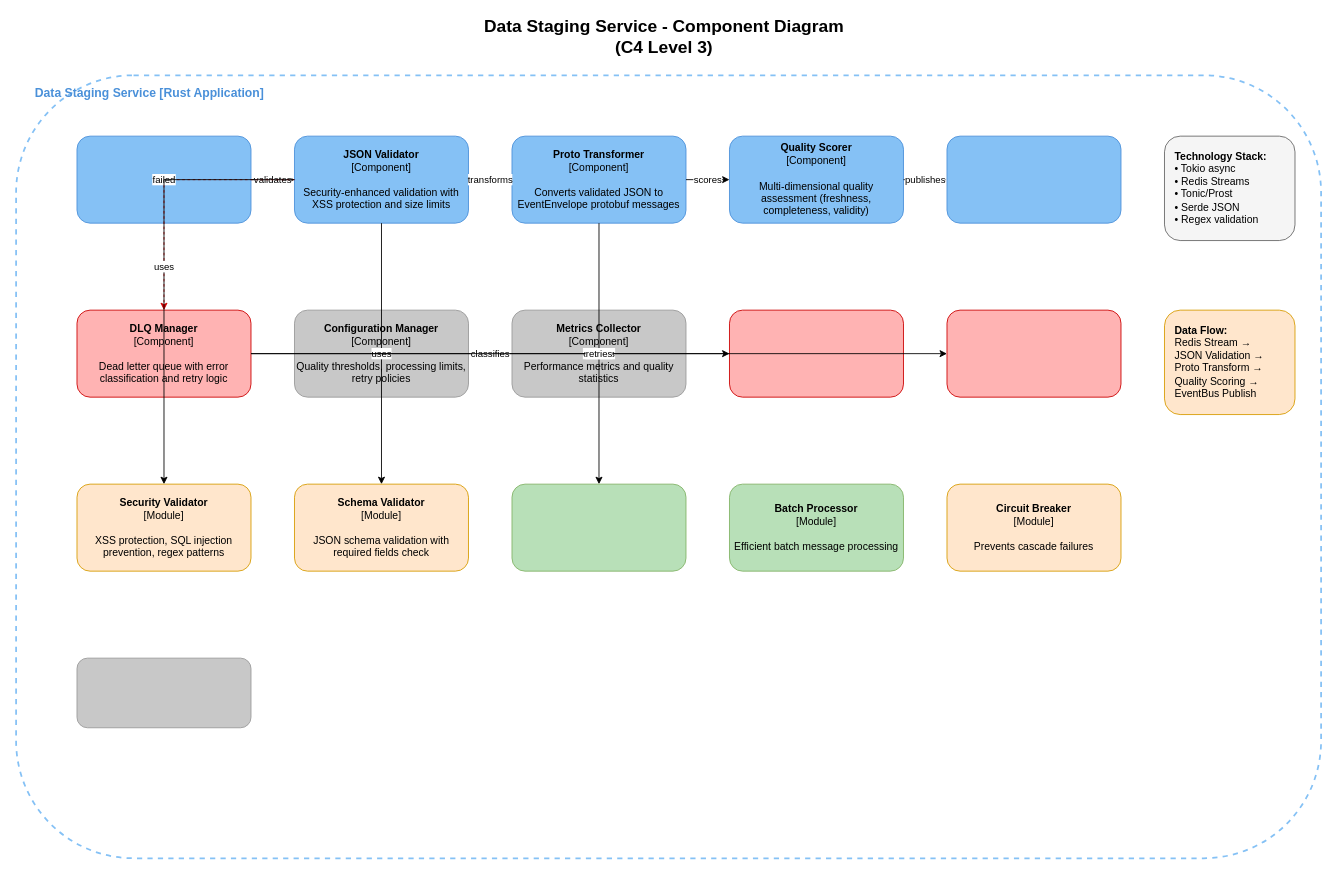
Some shapes in this 1336 by 873 pixel diagram are drawn without their labels. The shapes that lost their labels are listed below. From the top down, each one's centre as x and y in pixels, then its label:
At point 163,179: "Redis Consumer [Component] Consumes from market_data_raw stream using XREADGROUP".
At point 1033,179: "EventBus Publisher [Component] Proto-only publisher to EventBus channels".
At point 816,353: "Error Classifier [Module] Categorizes errors for DLQ routing".
At point 1033,353: "Retry Handler [Module] Exponential backoff retry logic".
At point 598,527: "Metadata Generator [Module] Creates routing, quality, and tracing metadata".
At point 163,692: "Health Check [Module] Liveness and readiness probes".
